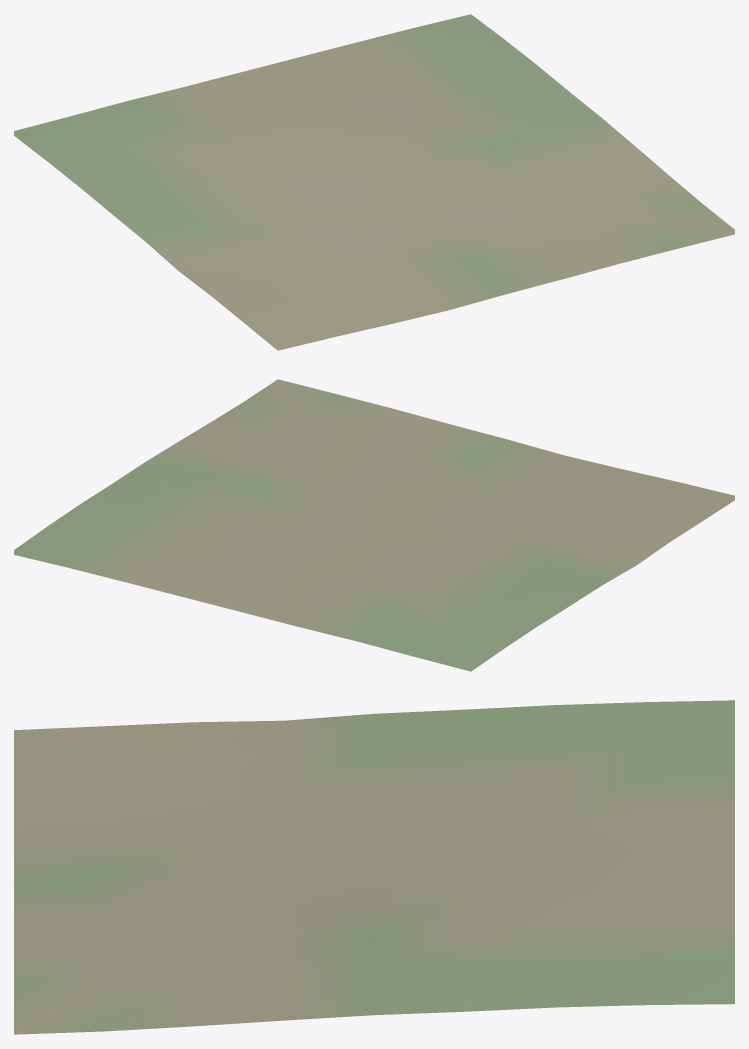
3 views of the same model, one above another, from view 1: azimuth 30°, elevation 25°; view 2: azimuth 150°, elevation 25°; view 3: azimuth 270°, elevation 25° (orthographic). The views are drawn at different scales.
Visible parts, largest first — view 1: prim0; view 2: prim0; view 3: prim0.
Part boxes in pixels (x1=…): prim0: x1=14, y1=14, x2=734, y2=350; prim0: x1=14, y1=379, x2=734, y2=671; prim0: x1=14, y1=700, x2=734, y2=1034.
Size of the model in its own units: 512 by 35.75 by 512.
